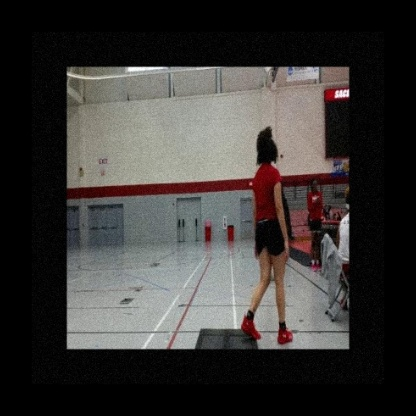lateral_flexion_right: (239, 120, 293, 349)
stance_width_broad: (239, 158, 293, 349)
